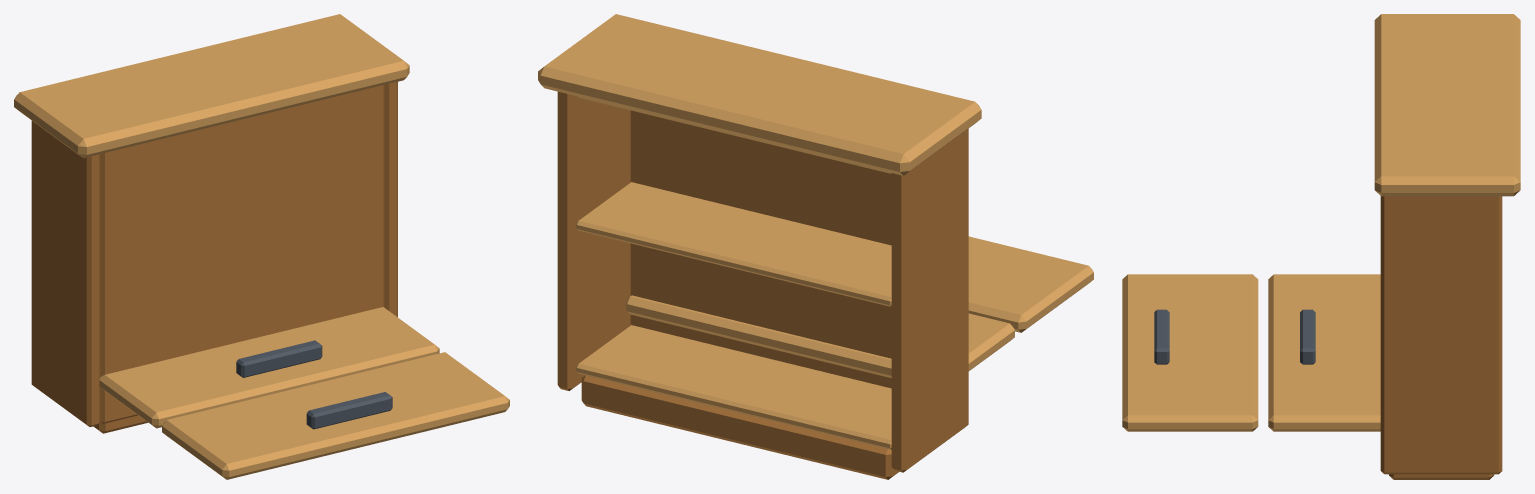
File: ShoeCabinet.fbx
The picture shows the model from 3 angles, left to right: view 1: azimuth 30°, elevation 25°; view 2: azimuth 150°, elevation 25°; view 3: azimuth 270°, elevation 25°; orthographic projection. The views are drawn at different scales.
Parts seen in each view (by area): view 1: Carcass, TiltPanel_2, TiltPanel_1; view 2: Carcass, TiltPanel_2, TiltPanel_1; view 3: Carcass, TiltPanel_2, TiltPanel_1.
Part boxes in pixels (box(x1,y1,x2,y2)): Carcass: box(14, 14, 409, 433); TiltPanel_2: box(162, 352, 509, 479); TiltPanel_1: box(99, 307, 439, 428); Carcass: box(538, 14, 981, 479); TiltPanel_2: box(968, 236, 1093, 332); TiltPanel_1: box(625, 295, 1014, 378); Carcass: box(1374, 14, 1520, 479); TiltPanel_2: box(1122, 274, 1258, 431); TiltPanel_1: box(1268, 274, 1380, 431).
Size of the model in its own units: 0.98 by 0.8625 by 0.9825.
